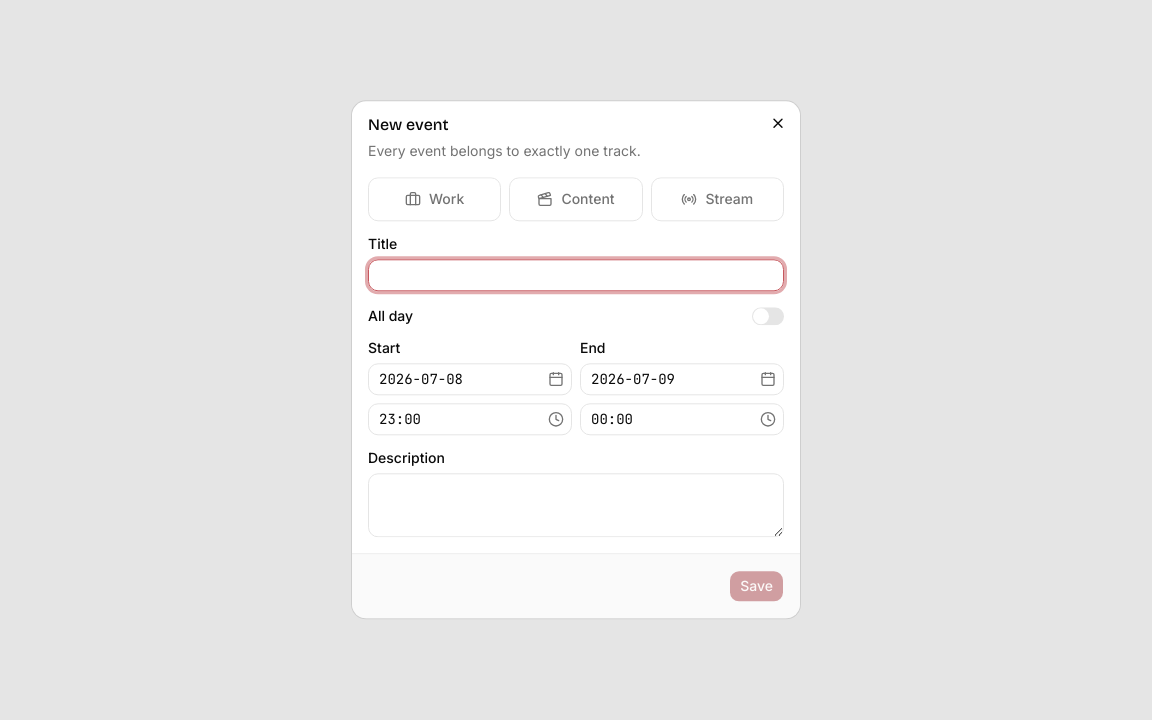
Test case: EventEditor — single-day content kinds › moves the end date with the one date field
Step 1. Click the radio button labelled "Content" → click(576, 199), box top-left (509, 177), bottom-right (643, 221)
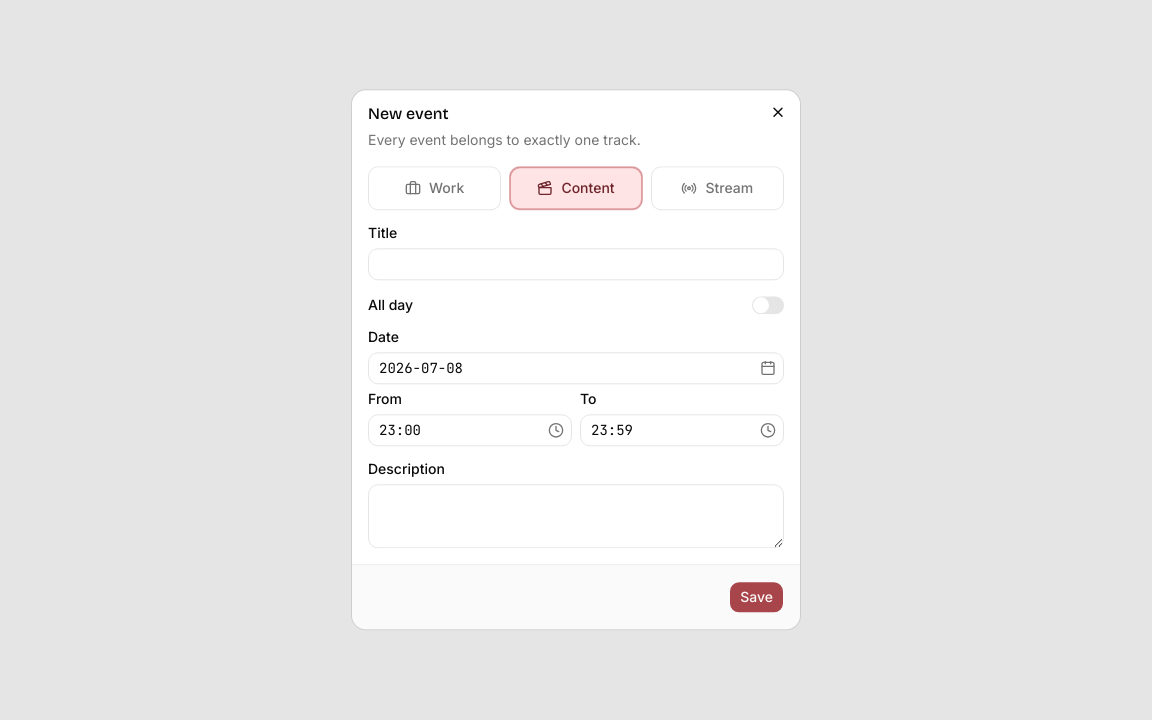
Step 2. Click the button named "Open the day calendar" → click(768, 369), box top-left (756, 357), bottom-right (780, 381)
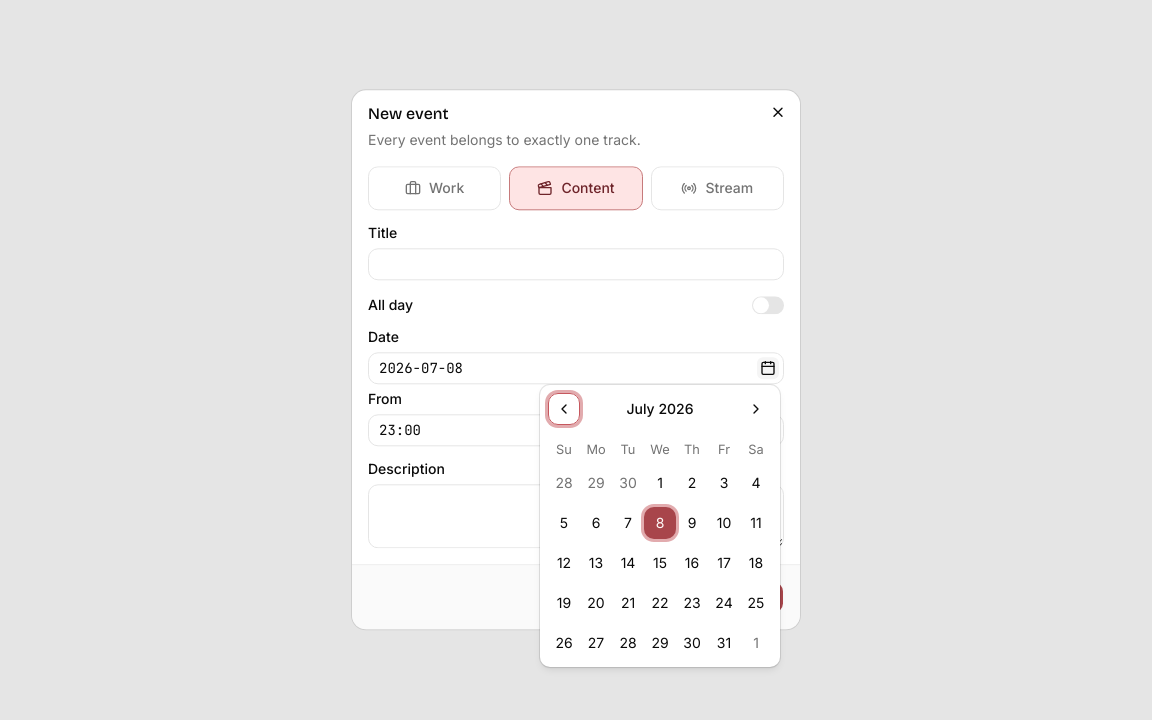
Step 3. Click the button named "Monday, July 20th, 2026" → click(596, 603), box top-left (580, 587), bottom-right (612, 619)
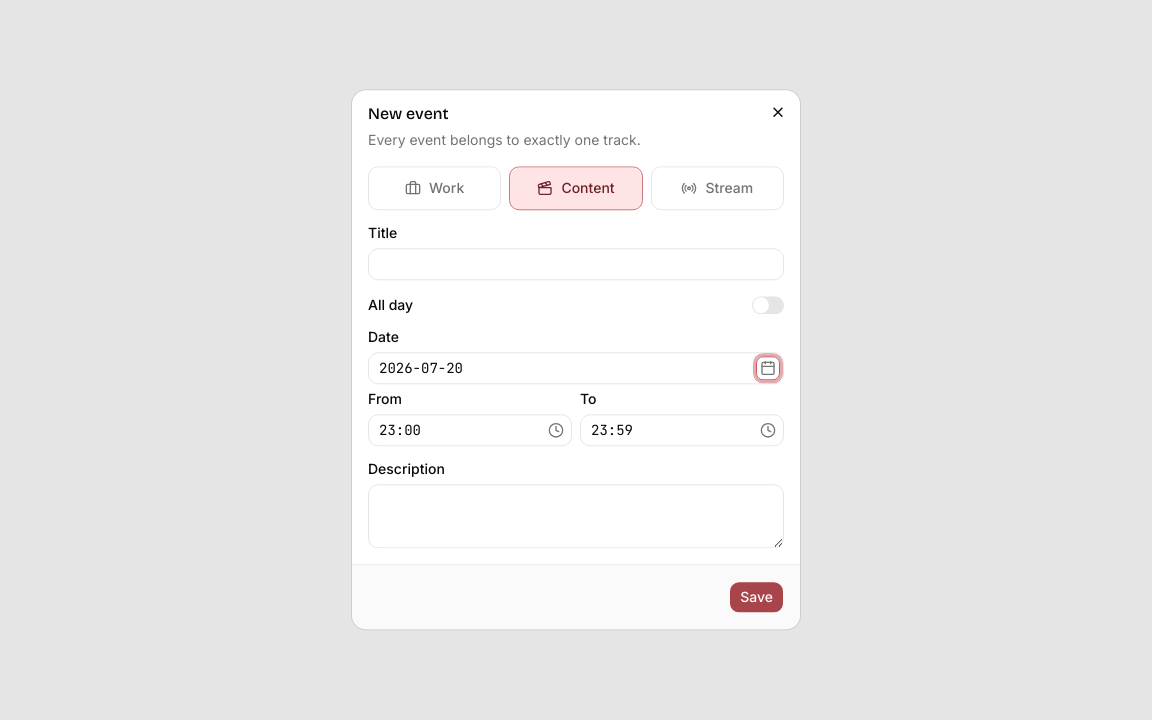
Expected: the form named "endDate" holds "2026-07-20", top-left (368, 106), bottom-right (784, 614)
Now the field labelled "Date" holds "2026-07-20", box top-left (369, 353), bottom-right (756, 385)
